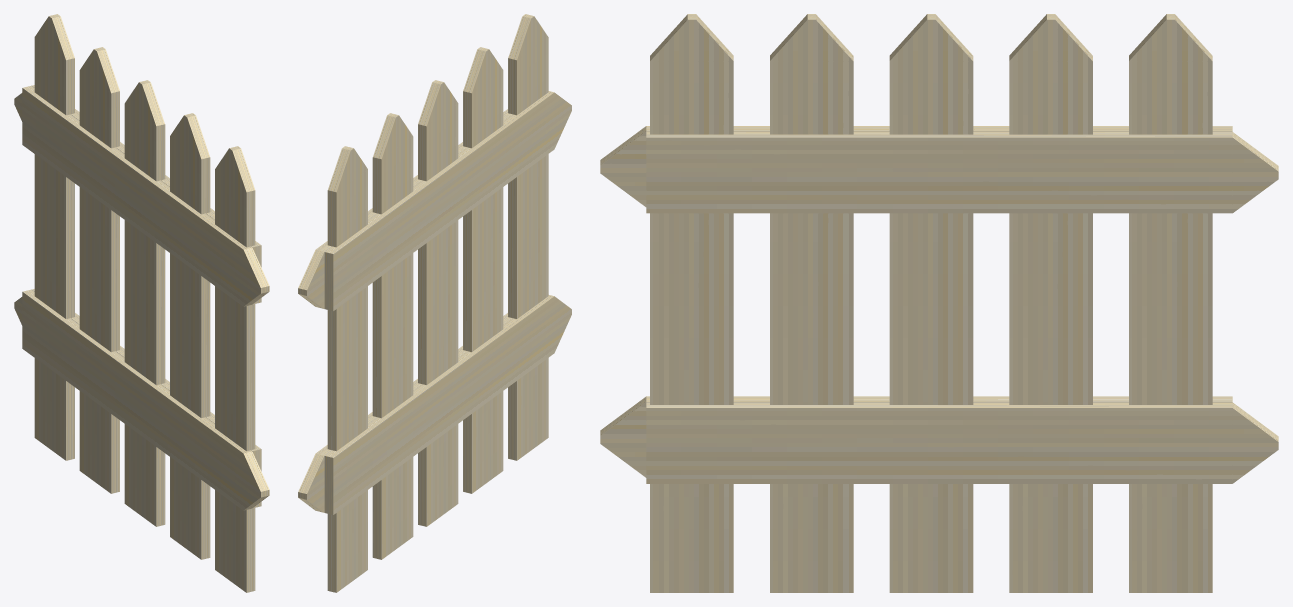
The model's file is Fence.glb.
3 renders of one model, left to right at view 1: azimuth 30°, elevation 25°; view 2: azimuth 150°, elevation 25°; view 3: azimuth 270°, elevation 25°, orthographic. The views are drawn at different scales.
Visible parts, largest first — view 1: Cube.005, Cube.007, Cube, Cube.004, Cube.003, Cube.002, Cube.001, Cube.008, Cube.006; view 2: Cube.005, Cube.007, Cube.002, Cube.003, Cube.001, Cube.004, Cube, Cube.006, Cube.008; view 3: Cube.008, Cube.006, Cube, Cube.001, Cube.002, Cube.004, Cube.003, Cube.005, Cube.007.
Boxes of the visible parts, x1,y1,x2,y2 form: Cube.005: (22, 289, 269, 510); Cube.007: (22, 85, 269, 306); Cube: (124, 80, 165, 526); Cube.004: (215, 146, 255, 592); Cube.003: (34, 14, 74, 460); Cube.002: (79, 47, 119, 493); Cube.001: (170, 113, 210, 559); Cube.008: (14, 85, 261, 304); Cube.006: (14, 289, 261, 508); Cube.005: (324, 295, 571, 514); Cube.007: (324, 91, 571, 311); Cube.002: (372, 113, 413, 559); Cube.003: (327, 146, 367, 592); Cube.001: (463, 47, 503, 493); Cube.004: (508, 14, 548, 460); Cube: (418, 80, 458, 526); Cube.006: (298, 313, 512, 512); Cube.008: (298, 109, 511, 308); Cube.008: (646, 132, 1278, 213); Cube.006: (646, 402, 1278, 483); Cube: (889, 14, 973, 592); Cube.001: (770, 14, 853, 592); Cube.002: (1009, 14, 1092, 592); Cube.004: (650, 14, 733, 592); Cube.003: (1129, 14, 1212, 592); Cube.005: (600, 396, 1232, 477); Cube.007: (600, 126, 1232, 206).
Size of the model in its own units: 0.2304 by 5.28 by 5.67.
1 material, 1 textured.
